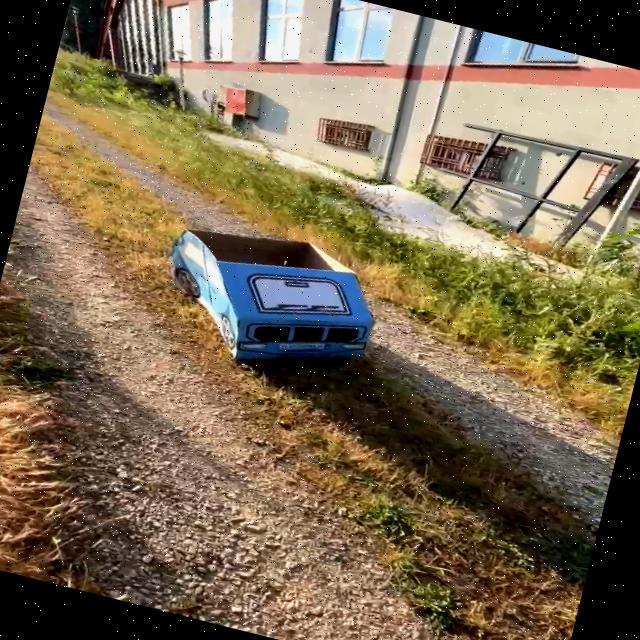blue_car: (108, 186, 438, 425)
